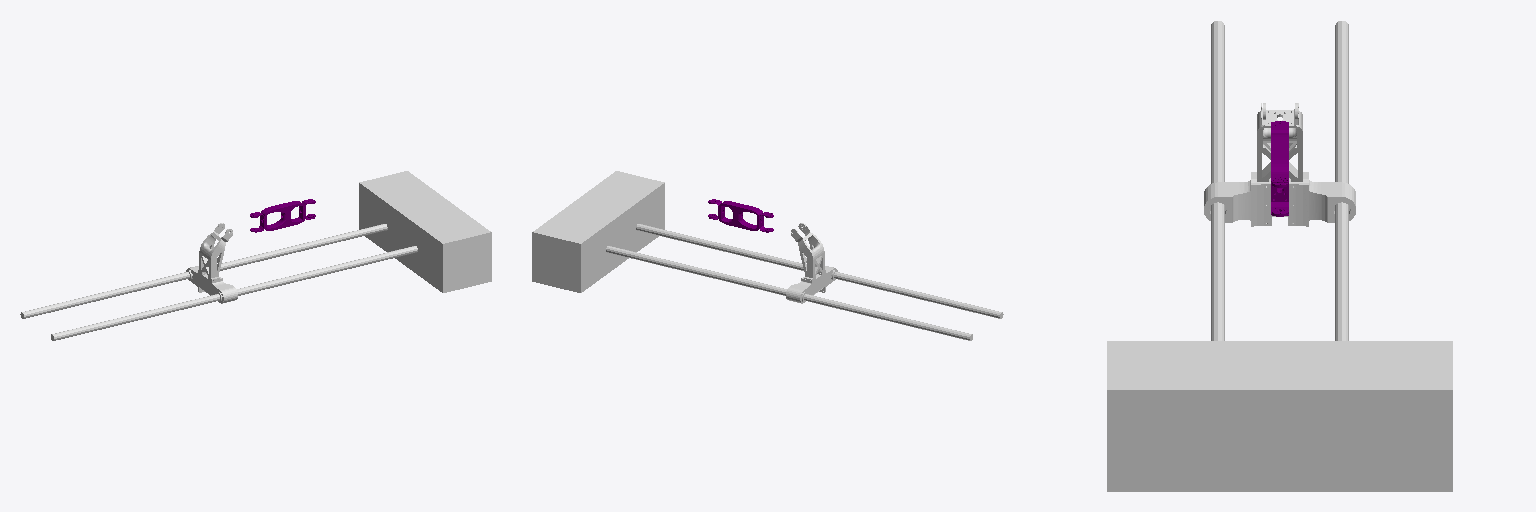
The robot description file, URDF, robot "Pata_Der_Robo_Parcial_URDF_V2.2":
<?xml version="1.0" encoding="utf-8"?>
<!-- This URDF was automatically created by SolidWorks to URDF Exporter! Originally created by Stephen Brawner (brawner@gmail.com) 
     Commit Version: 1.6.0-4-g7f85cfe  Build Version: 1.6.7995.38578
     For more information, please see http://wiki.ros.org/sw_urdf_exporter -->
<robot
  name="Pata_Der_Robo_Parcial_URDF_V2.2">
  <link
    name="Base_link">
    <inertial>
      <origin
        xyz="0.82743 3.3032E-07 0.0038887"
        rpy="0 0 0" />
      <mass
        value="25.798" />
      <inertia
        ixx="0.79521"
        ixy="3.8562E-09"
        ixz="-8.6544E-05"
        iyy="1.4694"
        iyz="7.4798E-09"
        izz="2.1148" />
    </inertial>
    <visual>
      <origin
        xyz="0 0 0"
        rpy="0 0 0" />
      <geometry>
        <mesh
          filename="package://robot_description/meshes/meshes_der/Base_link.STL" />
      </geometry>
      <material
        name="">
        <color
          rgba="0.89412 0.89412 0.89412 1" />
      </material>
    </visual>
    <collision>
      <origin
        xyz="0 0 0"
        rpy="0 0 0" />
      <geometry>
        <mesh
          filename="package://robot_description/meshes/meshes_der/Base_link.STL" />
      </geometry>
    </collision>
  </link>
  <link
    name="Right_Hip_Roll_Link">
    <inertial>
      <origin
        xyz="0.059729 0.00018989 -0.00021766"
        rpy="0 0 0" />
      <mass
        value="0.19411" />
      <inertia
        ixx="5.2459E-05"
        ixy="-1.017E-07"
        ixz="-1.017E-07"
        iyy="8.9433E-05"
        iyz="-6.4684E-10"
        izz="8.9433E-05" />
    </inertial>
    <visual>
      <origin
        xyz="0 0 0"
        rpy="0 0 0" />
      <geometry>
        <mesh
          filename="package://robot_description/meshes/meshes_der/Right_Hip_Roll_Link.STL" />
      </geometry>
      <material
        name="">
        <color
          rgba="0.5020 0 0.5020 1" />
      </material>
    </visual>
    <collision>
      <origin
        xyz="0 0 0"
        rpy="0 0 0" />
      <geometry>
        <mesh
          filename="package://robot_description/meshes/meshes_der/Right_Hip_Roll_Link.STL" />
      </geometry>
    </collision>
  </link>
  <joint
    name="Right_Hip_Roll_Joint"
    type="revolute">
    <origin
      xyz="0.083256 0 0.20319"
      rpy="1.5708 0 0" />
    <parent
      link="Base_link" />
    <child
      link="Right_Hip_Roll_Link" />
    <axis
      xyz="0 0 1" />
    <limit
      lower="-0.34907"
      upper="2.2689"
      effort="100"
      velocity="100" />
  </joint>
  <link
    name="Right_Hip_Pitch_Link">
    <inertial>
      <origin
        xyz="0.12138 0.00022499 0.00023023"
        rpy="0 0 0" />
      <mass
        value="0.21755" />
      <inertia
        ixx="0.00017367"
        ixy="8.6341E-10"
        ixz="-8.5257E-09"
        iyy="0.00053617"
        iyz="-3.2464E-09"
        izz="0.00039504" />
    </inertial>
    <visual>
      <origin
        xyz="0 0 0"
        rpy="0 0 0" />
      <geometry>
        <mesh
          filename="package://robot_description/meshes/meshes_der/Right_Hip_Pitch_Link.STL" />
      </geometry>
      <material
        name="">
        <color
          rgba="0.5020 0 0.5020 1" />
      </material>
    </visual>
    <collision>
      <origin
        xyz="0 0 0"
        rpy="0 0 0" />
      <geometry>
        <mesh
          filename="package://robot_description/meshes/meshes_der/Right_Hip_Pitch_Link.STL" />
      </geometry>
    </collision>
  </link>
  <joint
    name="Right_Hip_Pitch_Joint"
    type="revolute">
    <origin
      xyz="0.11945 0 0"
      rpy="-1.5708 0 0" />
    <parent
      link="Right_Hip_Roll_Link" />
    <child
      link="Right_Hip_Pitch_Link" />
    <axis
      xyz="0 0 1" />
    <limit
      lower="-2.0071"
      upper="2.0071"
      effort="100"
      velocity="100" />
  </joint>
  <link
    name="Right_Knee_Link">
    <inertial>
      <origin
        xyz="0.14444 -0.00089337 -0.00035083"
        rpy="0 0 0" />
      <mass
        value="0.38813" />
      <inertia
        ixx="0.00026487"
        ixy="-8.6825E-07"
        ixz="-9.2412E-08"
        iyy="0.00042734"
        iyz="-1.1433E-09"
        izz="0.00042054" />
    </inertial>
    <visual>
      <origin
        xyz="0 0 0"
        rpy="0 0 0" />
      <geometry>
        <mesh
          filename="package://robot_description/meshes/meshes_der/Right_Knee_Link.STL" />
      </geometry>
      <material
        name="">
        <color
          rgba="0 1 0 1" />
      </material>
    </visual>
    <collision>
      <origin
        xyz="0 0 0"
        rpy="0 0 0" />
      <geometry>
        <mesh
          filename="package://robot_description/meshes/meshes_der/Right_Knee_Link.STL" />
      </geometry>
    </collision>
  </link>
  <joint
    name="Right_Knee_Joint"
    type="revolute">
    <origin
      xyz="0.23605 0 0"
      rpy="-3.1416 0 0" />
    <parent
      link="Right_Hip_Pitch_Link" />
    <child
      link="Right_Knee_Link" />
    <axis
      xyz="0 0 -1" />
    <limit
      lower="-2.0071"
      upper="2.0071"
      effort="100"
      velocity="100" />
  </joint>
</robot>

--- Render facts (derived) ---
3 views of the same robot in one strip: view 1: azimuth 30°, elevation 25°; view 2: azimuth 150°, elevation 25°; view 3: azimuth 270°, elevation 25° (orthographic).
Model Pata_Der_Robo_Parcial_URDF_V2.2 with 4 links and 3 joints (3 revolute), rooted at Base_link, posed all joints at 0.
Links seen in each view (by area): view 1: Base_link, Right_Hip_Pitch_Link; view 2: Base_link, Right_Hip_Pitch_Link; view 3: Base_link, Right_Hip_Pitch_Link.
Link boxes in pixels (x1,y1,x2,y2): Base_link: (20,171,491,340); Right_Hip_Pitch_Link: (250,199,315,232); Base_link: (532,171,1003,340); Right_Hip_Pitch_Link: (708,199,773,232); Base_link: (1107,21,1452,491); Right_Hip_Pitch_Link: (1271,121,1288,216).
Bounding box of the posed robot: 1.7 × 0.6 × 0.3385 m (x, y, z).
2 mesh visuals loaded from 4 distinct referenced files (2 binary STL); not drawn: 2 (reference not matched to a file when rendering).
